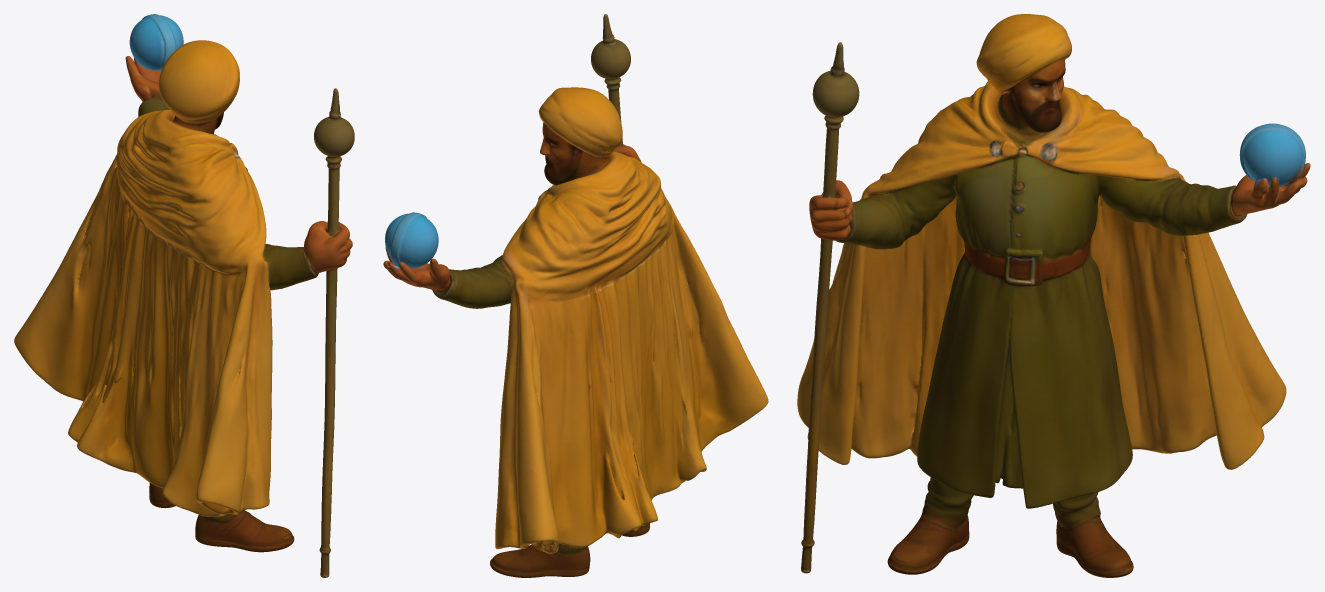
File: Yellow-Warlock-figure.glb
The picture shows the model from 3 angles, left to right: view 1: azimuth 30°, elevation 25°; view 2: azimuth 150°, elevation 25°; view 3: azimuth 270°, elevation 25°; orthographic projection. The views are drawn at different scales.
Parts seen in each view (by area): view 1: tripo_node_5ece4d0a-ce09-4349-834a-88adb1cb2f5a; view 2: tripo_node_5ece4d0a-ce09-4349-834a-88adb1cb2f5a; view 3: tripo_node_5ece4d0a-ce09-4349-834a-88adb1cb2f5a.
Boxes of the visible parts, <box> form: tripo_node_5ece4d0a-ce09-4349-834a-88adb1cb2f5a: <box>14,14,354,577</box>; tripo_node_5ece4d0a-ce09-4349-834a-88adb1cb2f5a: <box>383,14,768,577</box>; tripo_node_5ece4d0a-ce09-4349-834a-88adb1cb2f5a: <box>797,14,1310,577</box>.
Bounding box in the file's own units: 0.4172 × 1 × 0.8536.
Materials: 1 (1 with a texture image).
